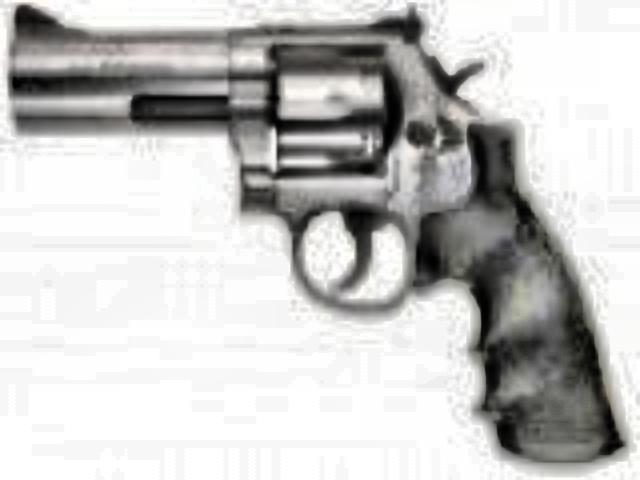pistol: (12, 0, 620, 460)
